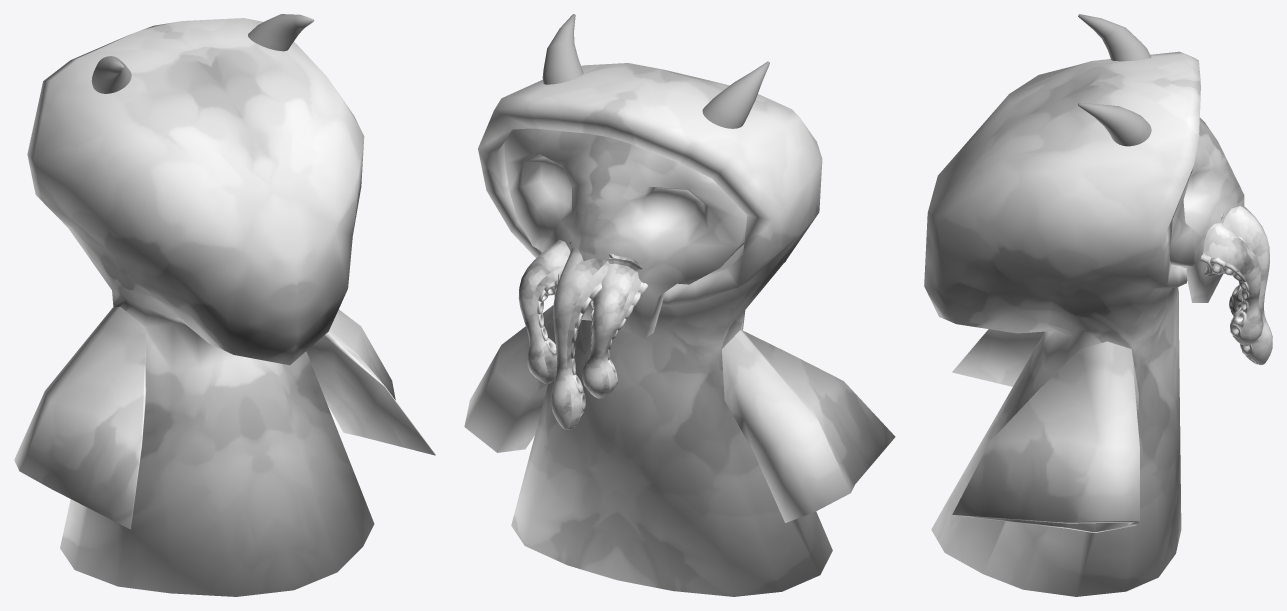
File: cultist_03.gltf
3 renders of one model, left to right at view 1: azimuth 30°, elevation 25°; view 2: azimuth 150°, elevation 25°; view 3: azimuth 270°, elevation 25°, orthographic. The views are drawn at different scales.
Parts seen in each view (by area): view 1: Cultist.001; view 2: Cultist.001; view 3: Cultist.001.
Part boxes in pixels (box(x1,y1,x2,y2)): Cultist.001: box(14, 14, 435, 596); Cultist.001: box(464, 14, 895, 596); Cultist.001: box(924, 14, 1272, 596).
Bounding box in the file's own units: 4.53 × 5.71 × 3.83.
Materials: 1 (1 with a texture image).
